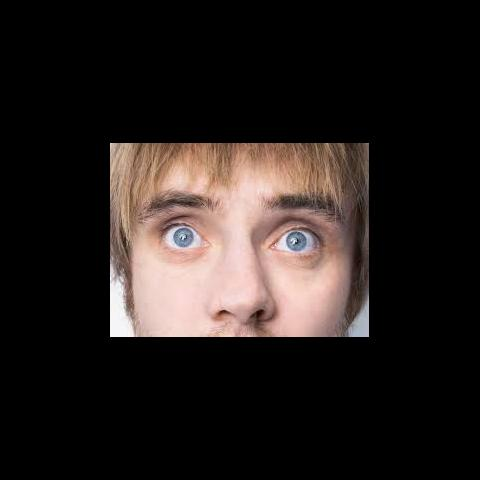opened: (145, 194, 334, 281)
